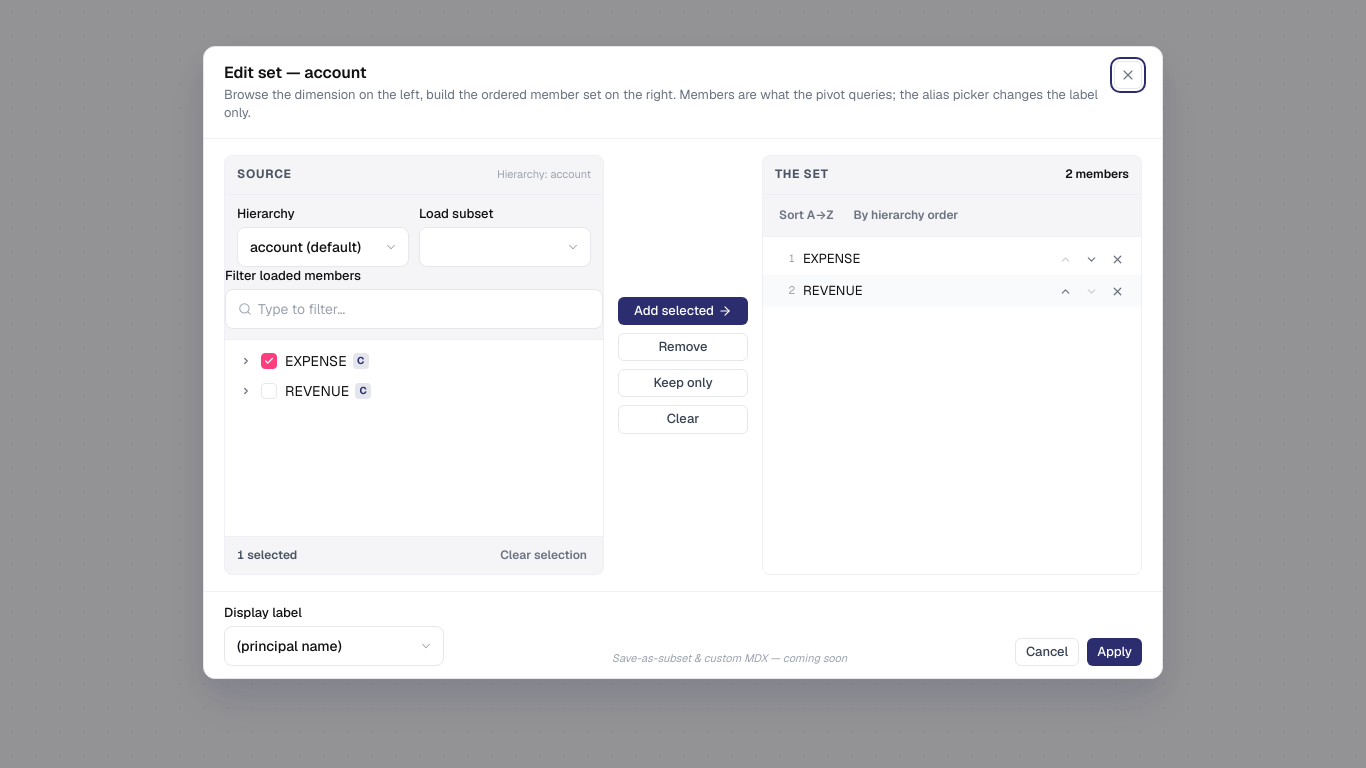
Scenario: SetEditor — transfer to/from the set › "Remove" drops checked members from the set; "Clear" empties it
The width and height of the screenshot is (1366, 768).
Check: the label "EXPENSE" is shown, box [261,351,347,371]
Click the button "Remove".
click(683, 347)  # box [618,333,748,361]
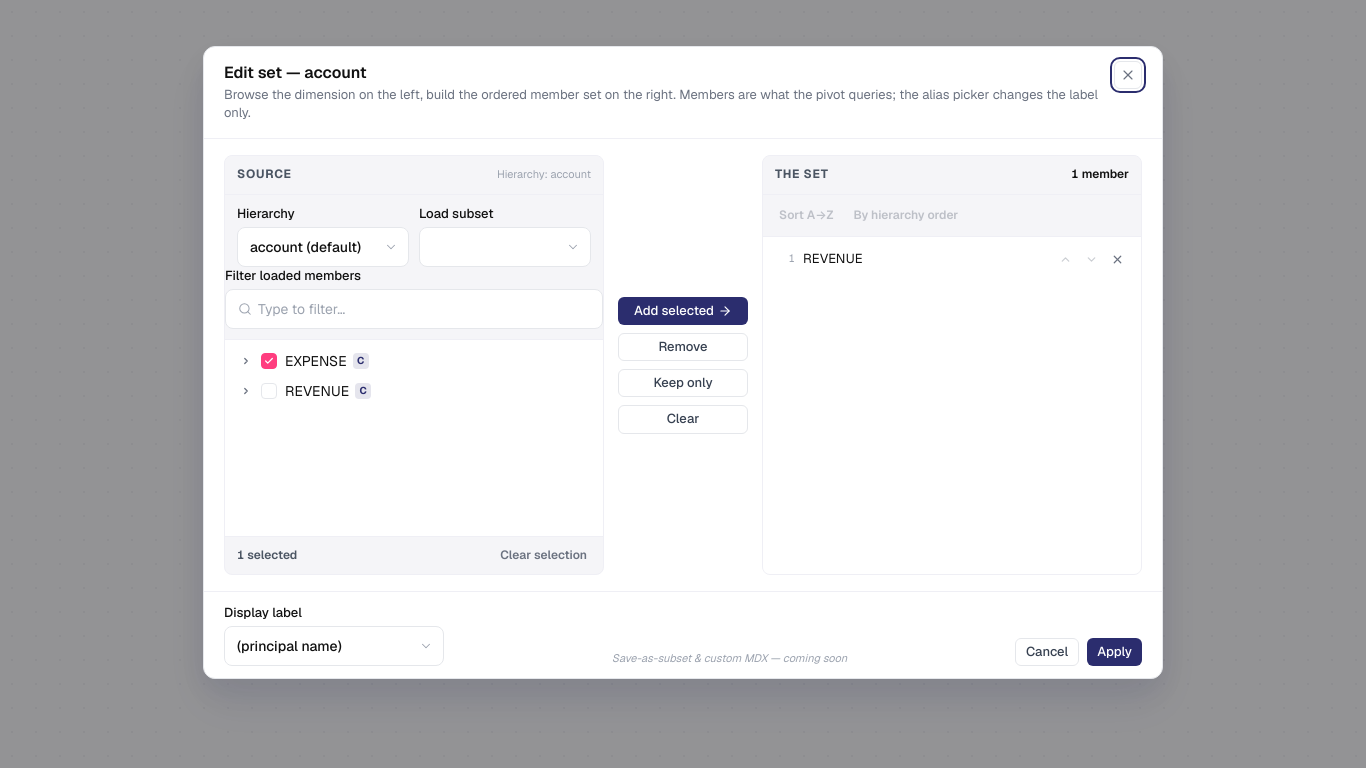
Click the button "Clear".
click(683, 419)  # box [618,405,748,434]
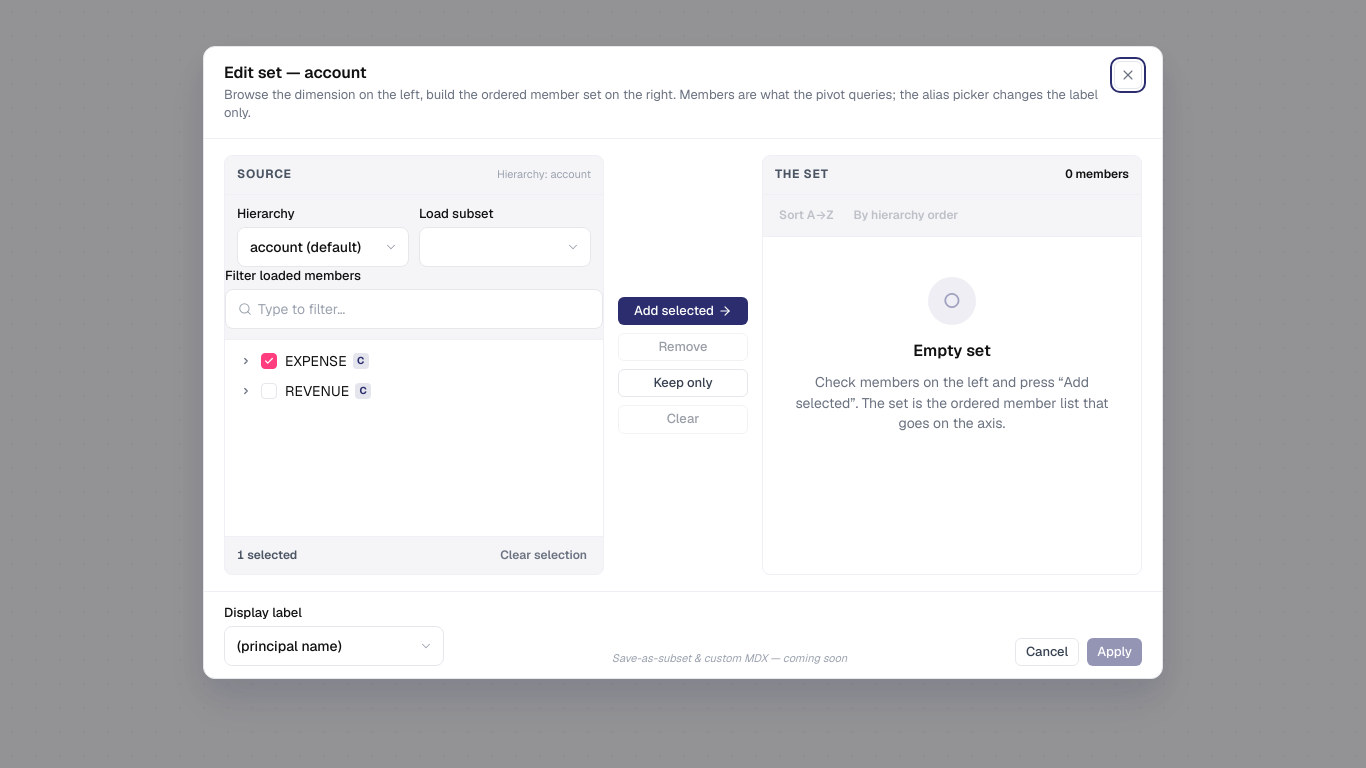
Check: the text "Empty set" is shown, box [913,339,991,362]
